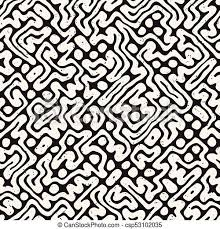maze: (1, 1, 219, 219)
